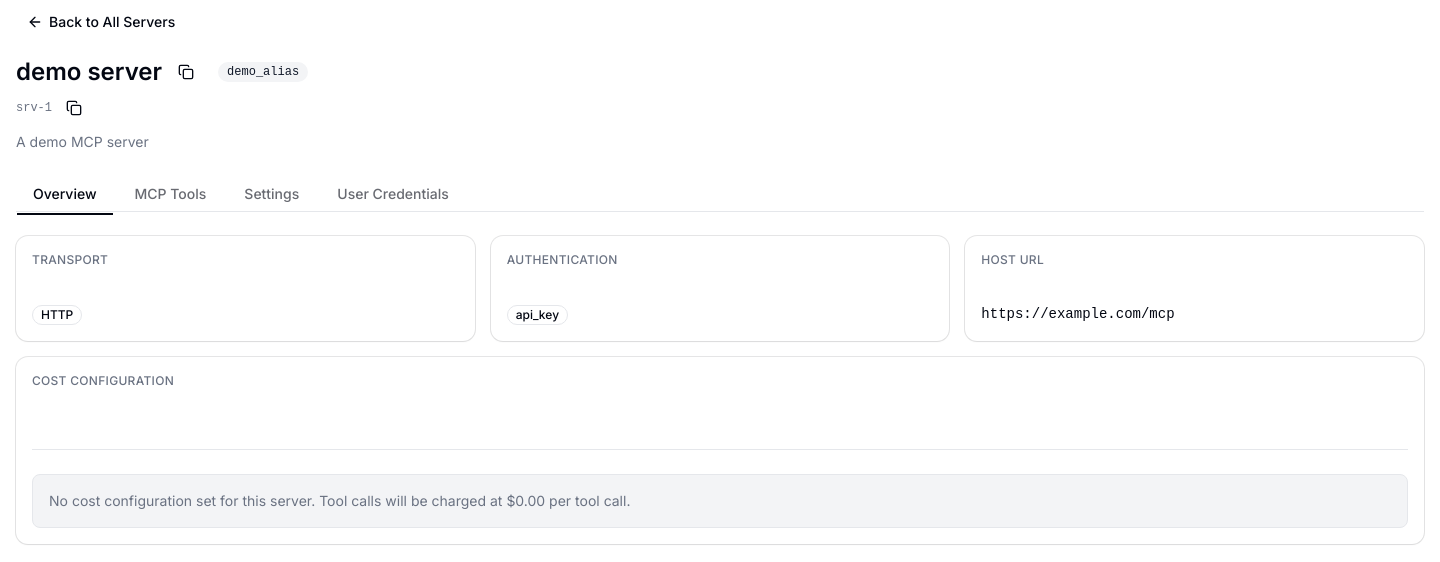
MCPServerView › lets a full admin revoke a stored user credential
What coordinates should you click on to do the following:
click the tab "User Credentials"
I would click on:
 (393, 194)
Its box is [320,176,466,210].
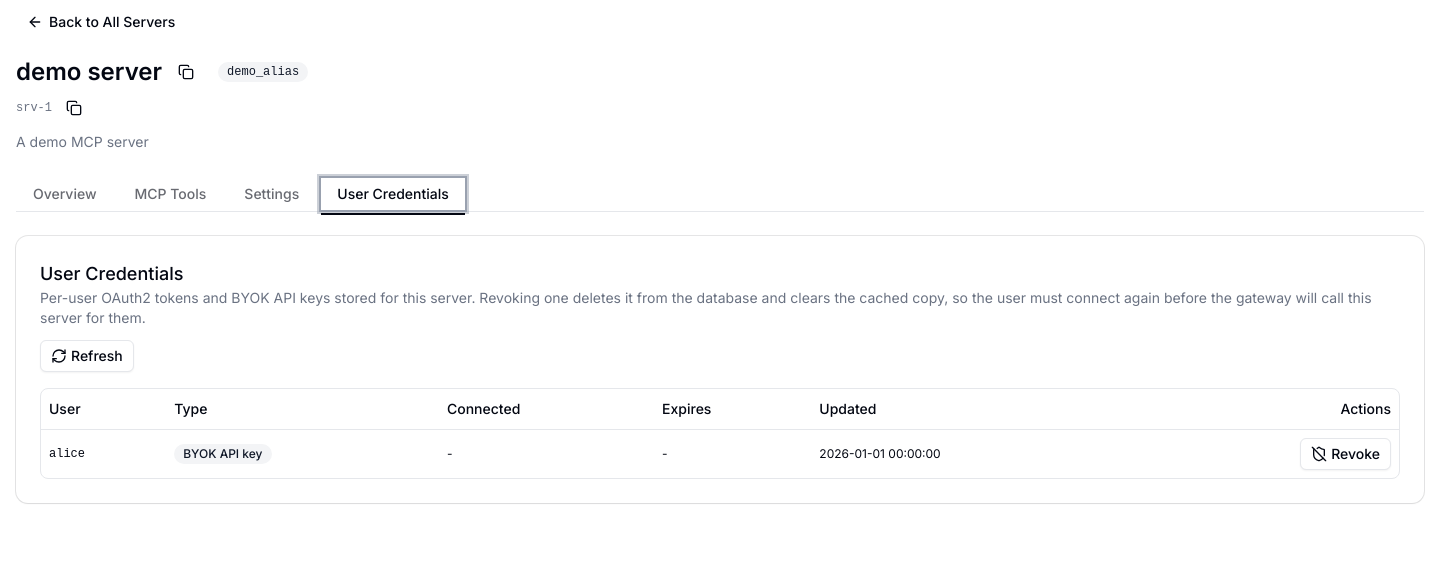
Expected: the button with aria-label "Revoke credential for user alice" is shown, [1300,438,1391,470]
